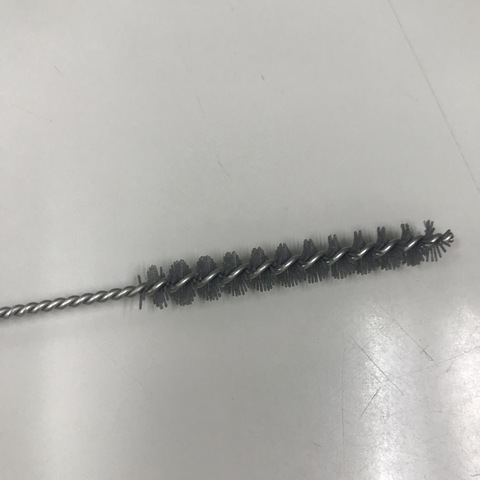Twist Brush-A: (1, 216, 459, 329)
